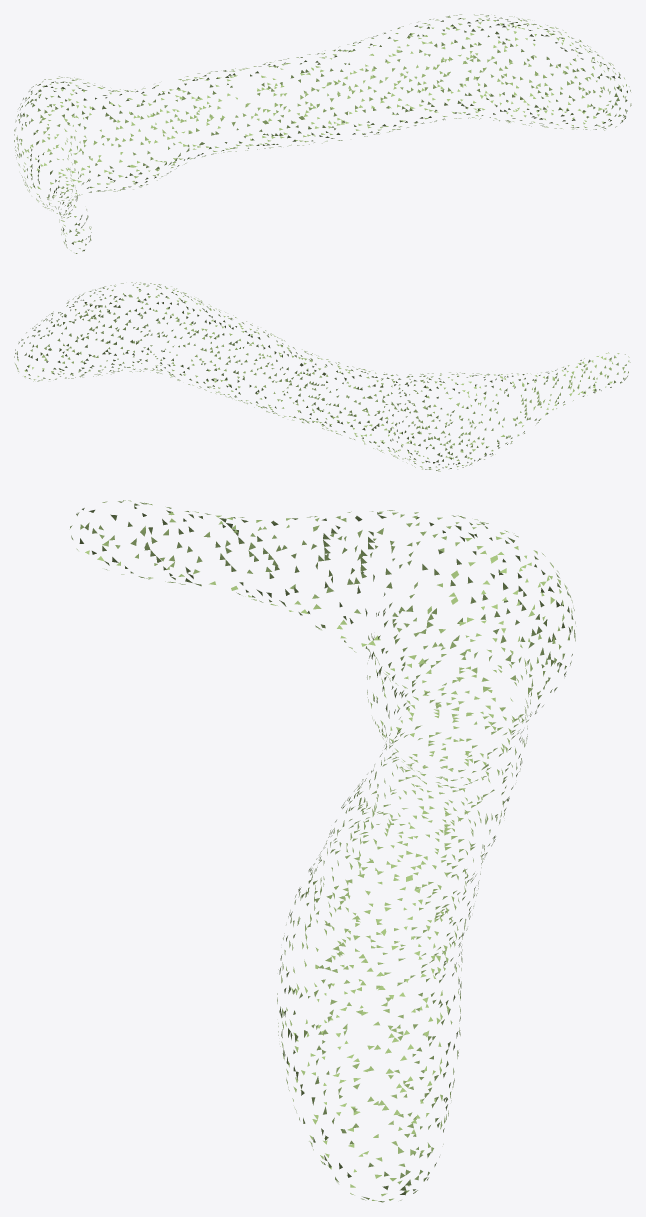
File: morph_012.glb
3 views of the same model, one above another, from view 1: azimuth 30°, elevation 25°; view 2: azimuth 150°, elevation 25°; view 3: azimuth 270°, elevation 25° (orthographic). The views are drawn at different scales.
Bounding box in the file's own units: 123 × 27.03 × 49.97.
